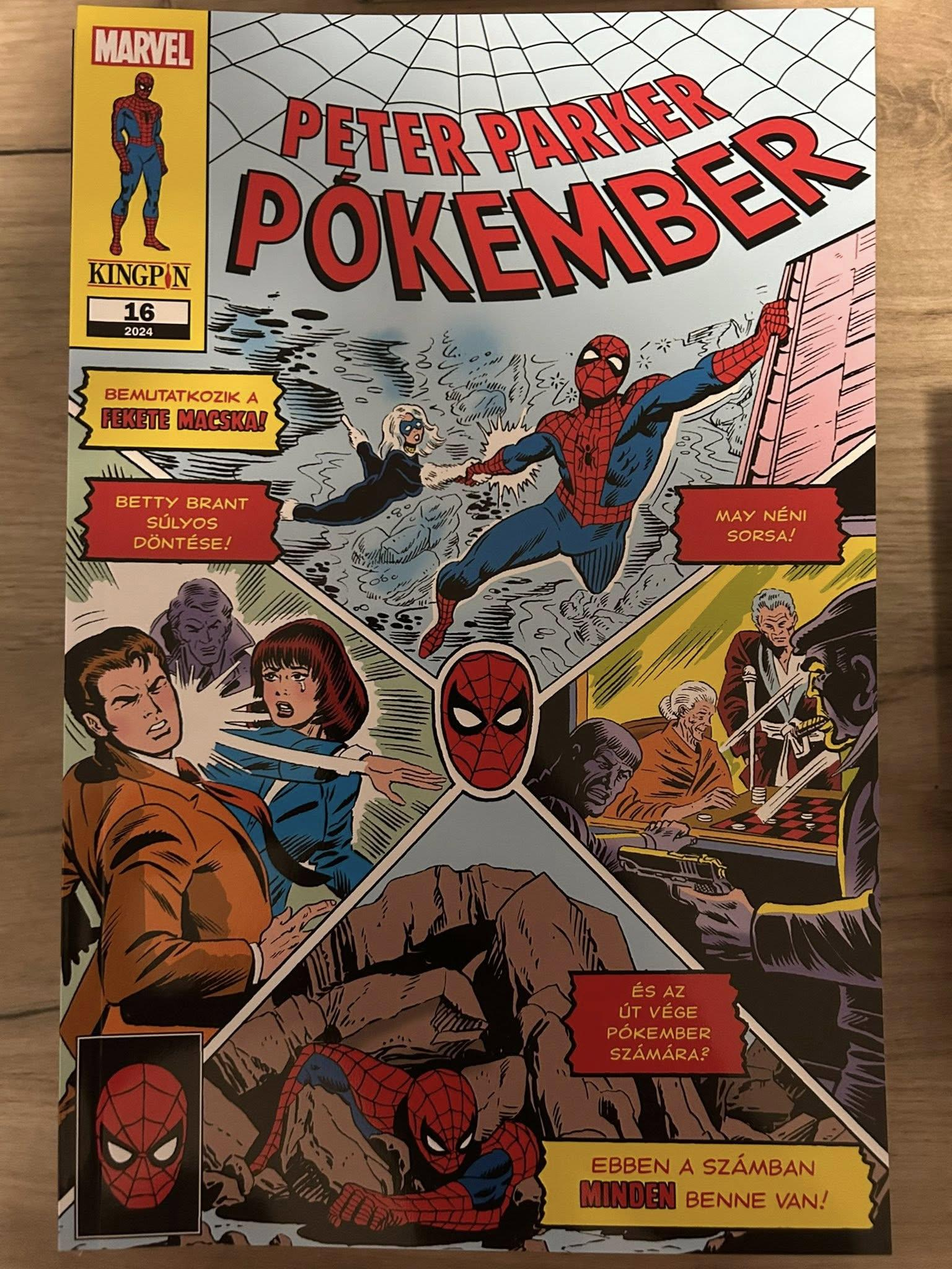comic: (61, 7, 889, 1252)
